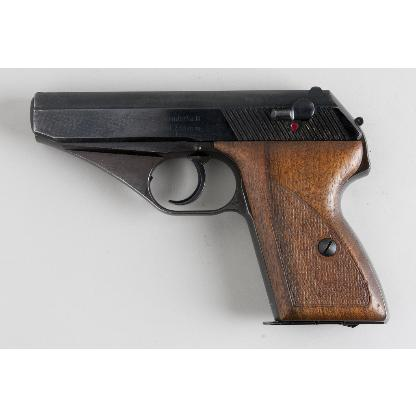gun: (29, 84, 388, 328)
